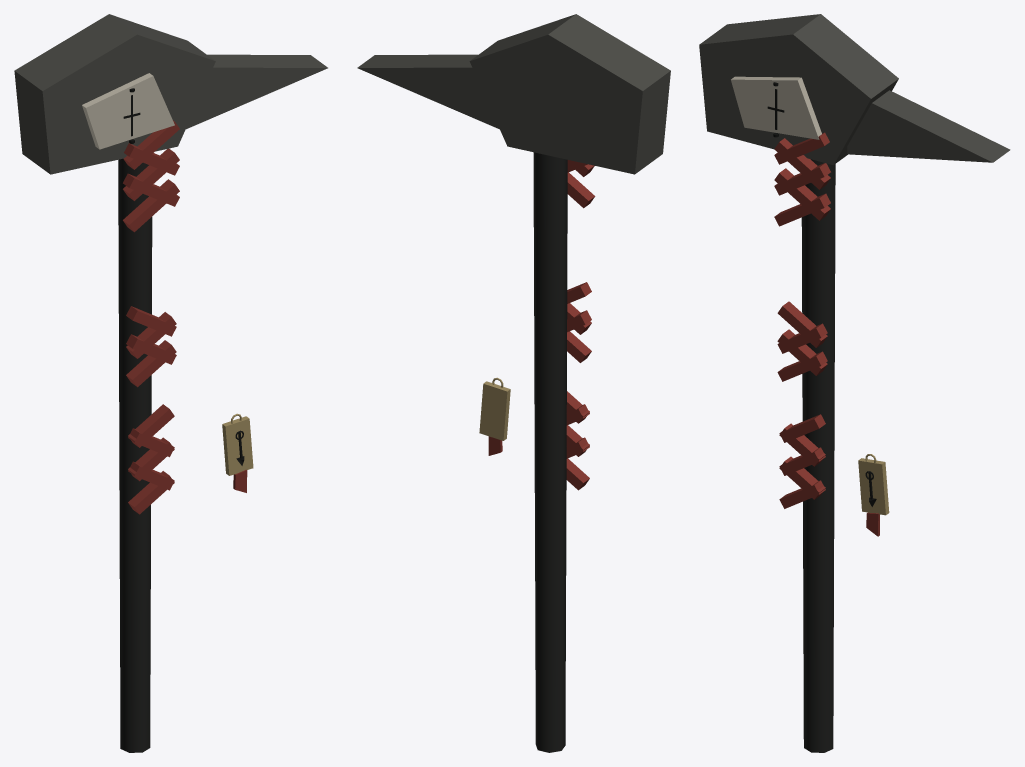
The model's file is fantasy-faceted-hammerist-polemaul-v1.glb.
3 renders of one model, left to right at view 1: azimuth 30°, elevation 25°; view 2: azimuth 150°, elevation 25°; view 3: azimuth 330°, elevation 25°, orthographic.
Visible parts, largest first — view 1: Hammerist Polemaul; view 2: Hammerist Polemaul; view 3: Hammerist Polemaul.
Boxes of the visible parts, x1,y1,x2,y2 form: Hammerist Polemaul: [14, 14, 327, 752]; Hammerist Polemaul: [357, 14, 670, 752]; Hammerist Polemaul: [699, 14, 1010, 752].
Size of the model in its own units: 2.27 by 5.4 by 0.5869.
